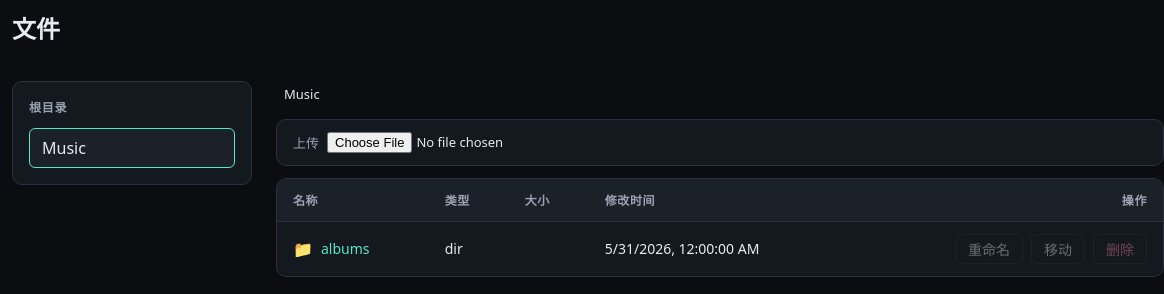
FilesPage › navigates into a directory when its name is clicked
Click the button "📁 albums": (331, 249) [293, 238, 370, 260]
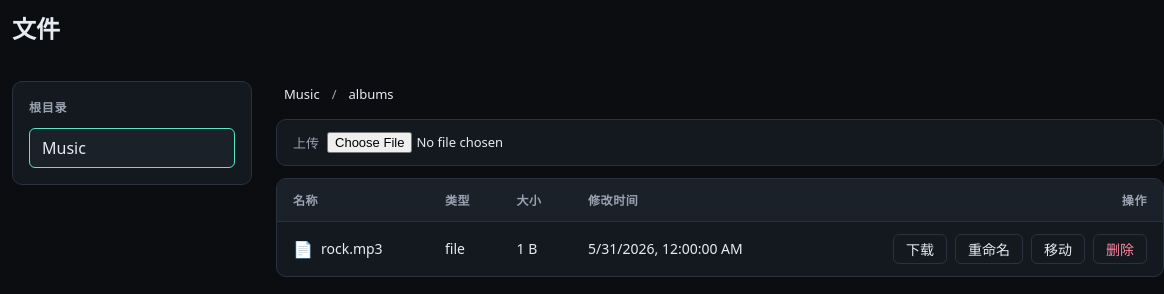
Result: the text "rock.mp3" is shown at [321, 239, 383, 258]
